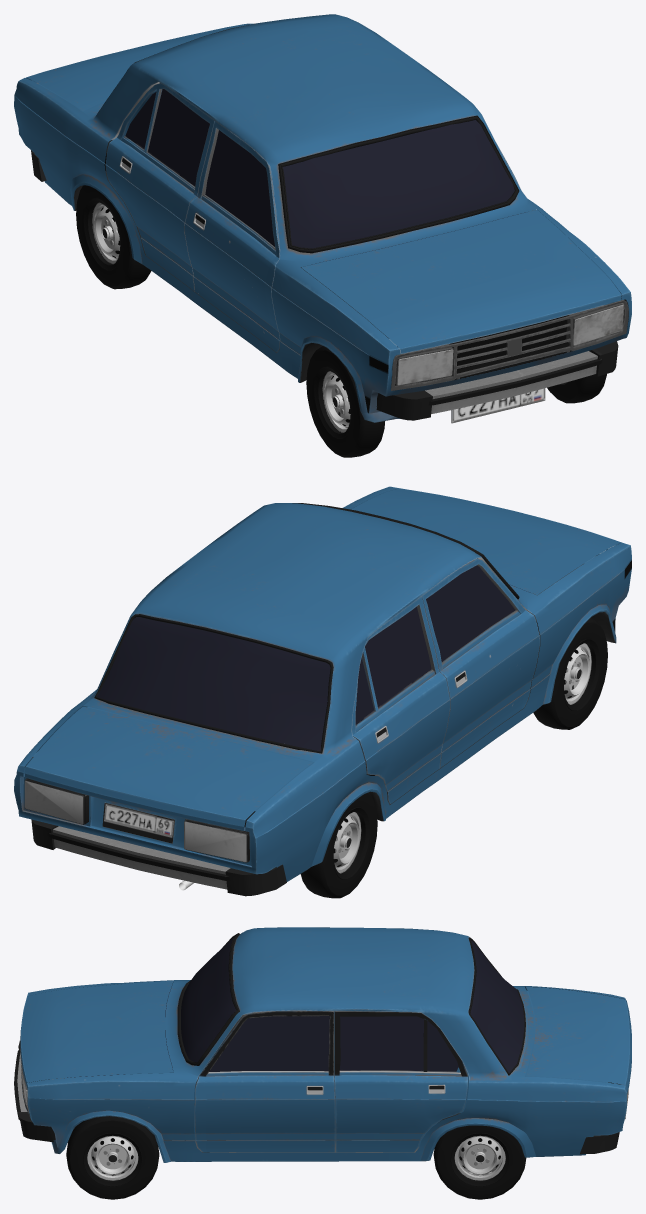
The model's file is Lada-2104_no_int.fbx.
The picture shows the model from 3 angles, top to bottom: view 1: azimuth 30°, elevation 25°; view 2: azimuth 150°, elevation 25°; view 3: azimuth 270°, elevation 25°; orthographic projection. The views are drawn at different scales.
Visible parts, largest first — view 1: Plane, Doors, Windshield, Wheel_low, Cube, Front, Headlight, Windshield Border, Plane.002, Cube.009; view 2: Plane, Doors, Back Windshield, Wheel_low, Cube.003, Cube.006, Back Windshield Border, Cube.002, Windshield Border; view 3: Plane, Doors, Wheel_low, Windshield, Back Windshield, Cube, Windshield Border, interior_box, Back Windshield Border, Cube.003.
Part boxes in pixels (left/top/right/bottom): Plane: left=14, top=14, right=631, bottom=422; Doors: left=105, top=83, right=535, bottom=352; Windshield: left=282, top=120, right=514, bottom=248; Wheel_low: left=76, top=185, right=606, bottom=457; Cube: left=376, top=341, right=618, bottom=420; Front: left=391, top=300, right=628, bottom=390; Headlight: left=395, top=303, right=624, bottom=386; Windshield Border: left=278, top=115, right=519, bottom=253; Plane.002: left=395, top=292, right=621, bottom=385; Cube.009: left=451, top=388, right=545, bottom=423; Plane: left=14, top=486, right=631, bottom=881; Doors: left=352, top=559, right=539, bottom=804; Back Windshield: left=96, top=617, right=330, bottom=751; Wheel_low: left=300, top=618, right=607, bottom=898; Cube.003: left=31, top=819, right=286, bottom=896; Cube.006: left=24, top=778, right=249, bottom=862; Back Windshield Border: left=94, top=614, right=333, bottom=753; Cube.002: left=102, top=802, right=174, bottom=843; Windshield Border: left=292, top=503, right=519, bottom=599; Plane: left=20, top=927, right=631, bottom=1162; Doors: left=194, top=1010, right=467, bottom=1152; Wheel_low: left=66, top=1116, right=526, bottom=1199; Windshield: left=181, top=938, right=236, bottom=1062; Back Windshield: left=470, top=940, right=524, bottom=1072; Cube: left=14, top=1041, right=55, bottom=1142; Windshield Border: left=177, top=933, right=239, bottom=1065; interior_box: left=60, top=984, right=613, bottom=1152; Back Windshield Border: left=468, top=937, right=525, bottom=1075; Cube.003: left=580, top=1132, right=619, bottom=1154.
Size of the model in its own units: 254 by 222 by 635.
